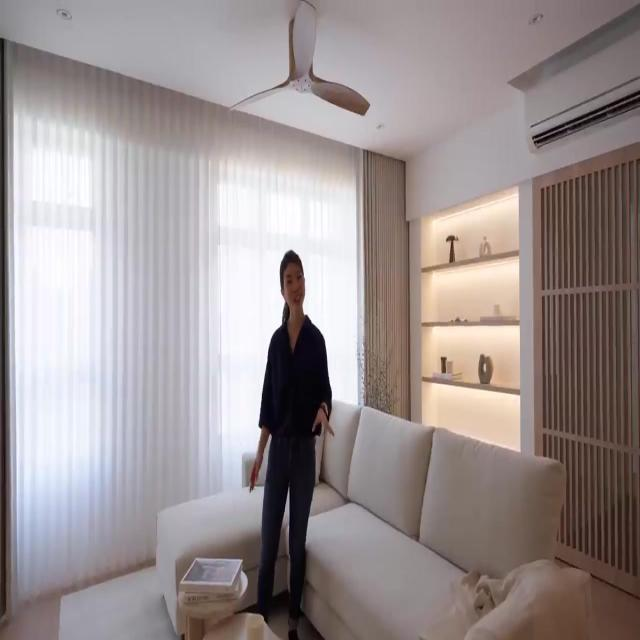door: (532, 140, 640, 598)
obstacle: (156, 398, 594, 638)
person: (248, 249, 334, 639)
